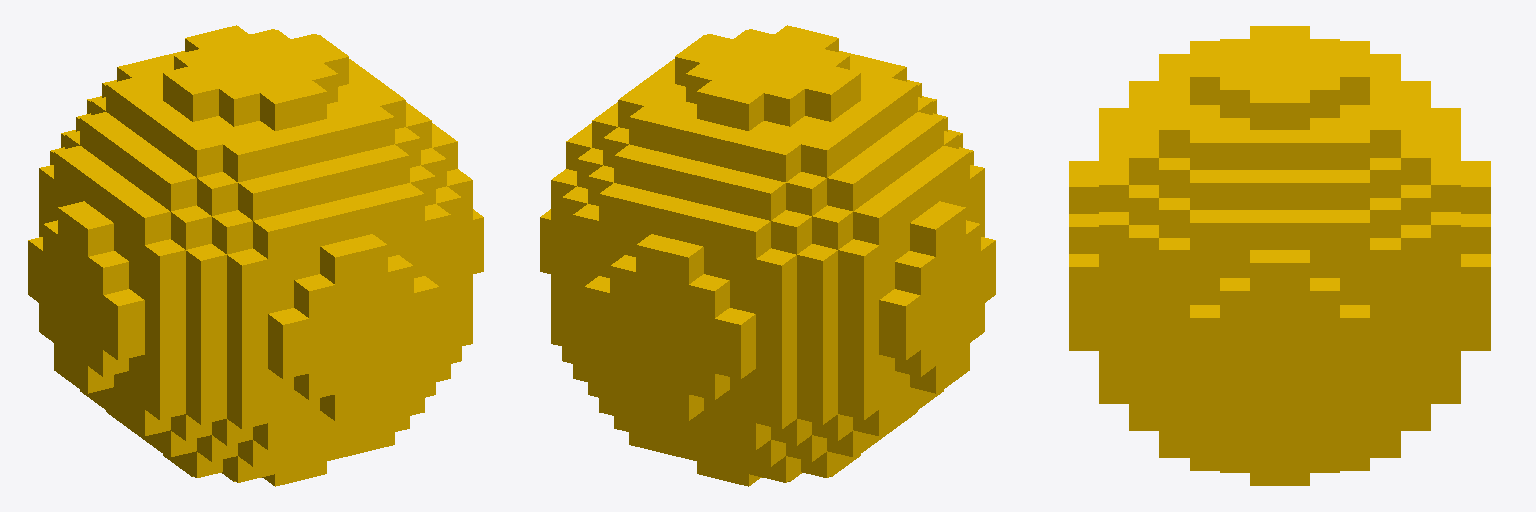
3 views of the same model, side by side, from view 1: azimuth 30°, elevation 25°; view 2: azimuth 150°, elevation 25°; view 3: azimuth 270°, elevation 25° (orthographic).
Parts seen in each view (by area): view 1: object 1; view 2: object 1; view 3: object 1.
Part boxes in pixels (x1,y1,x2,y2): object 1: (28,25,483,486); object 1: (540,25,995,486); object 1: (1069,26,1490,485).
Bounding box in the file's own units: 1.4 × 1.4 × 1.4.
Materials: 1 (1 with a texture image).